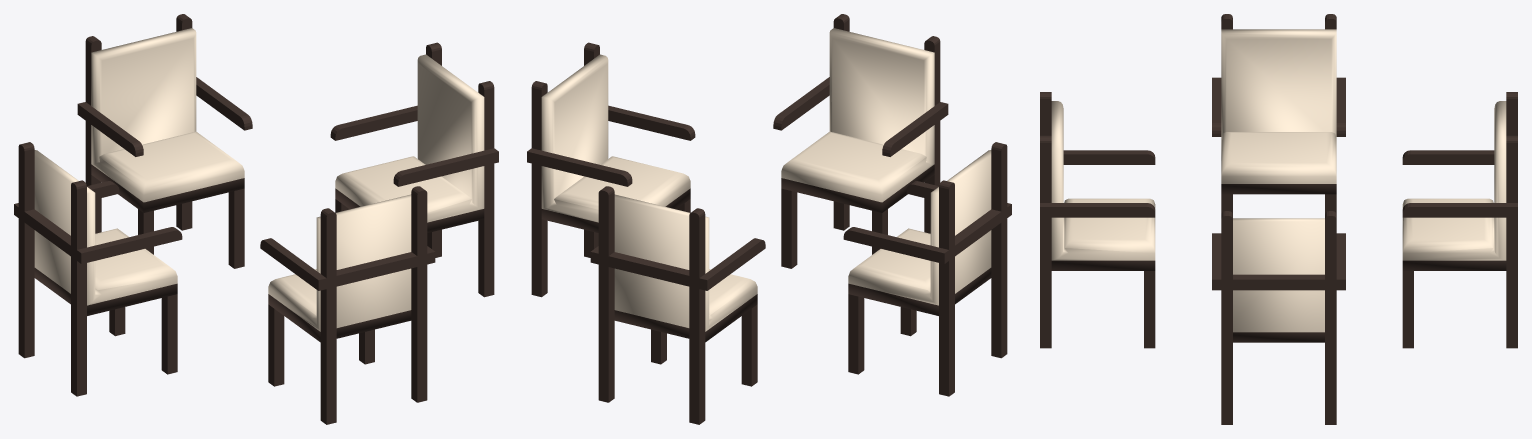
3 renders of one model, left to right at view 1: azimuth 30°, elevation 25°; view 2: azimuth 150°, elevation 25°; view 3: azimuth 270°, elevation 25°, orthographic.
Visible parts, largest first — view 1: MK-7; view 2: MK-7; view 3: MK-7.
Part boxes in pixels (bbox=[...]): MK-7: bbox=[14, 14, 498, 424]; MK-7: bbox=[527, 14, 1011, 424]; MK-7: bbox=[1040, 14, 1517, 424].
Size of the model in its own units: 207 by 100 by 207.
